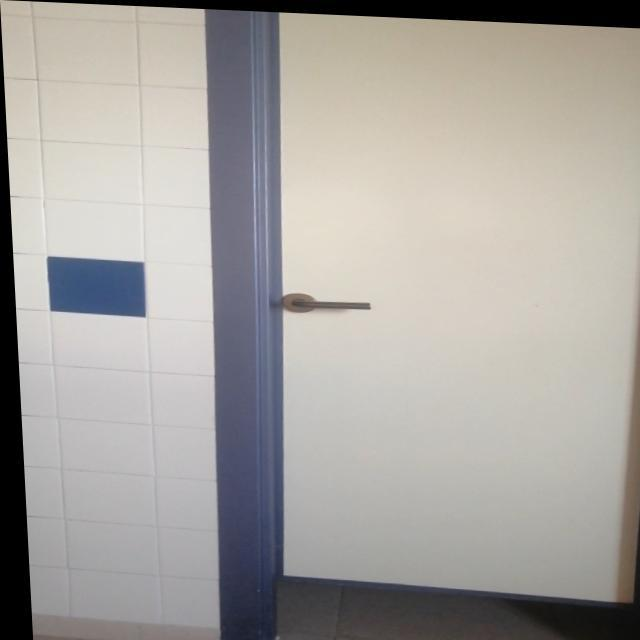door_handle: (284, 294, 370, 309)
